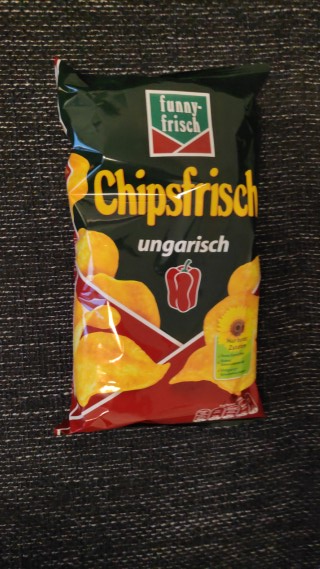chipsfrisch: (50, 54, 270, 436)
